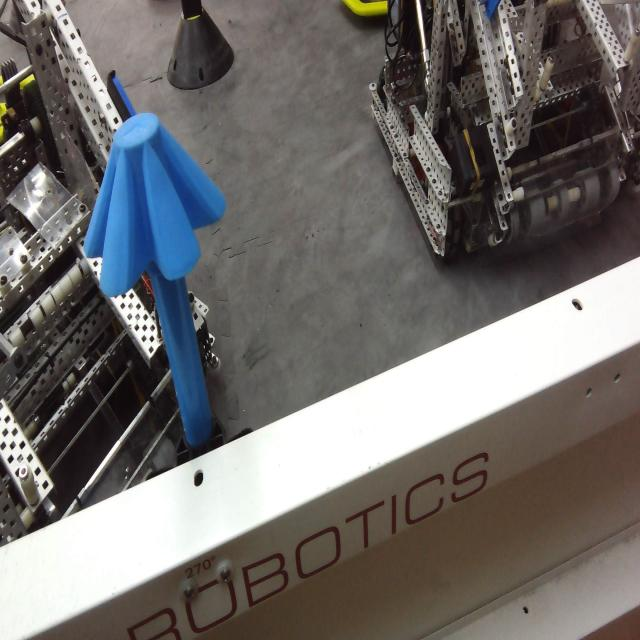zblue-Stake-Head: (88, 109, 226, 284)
